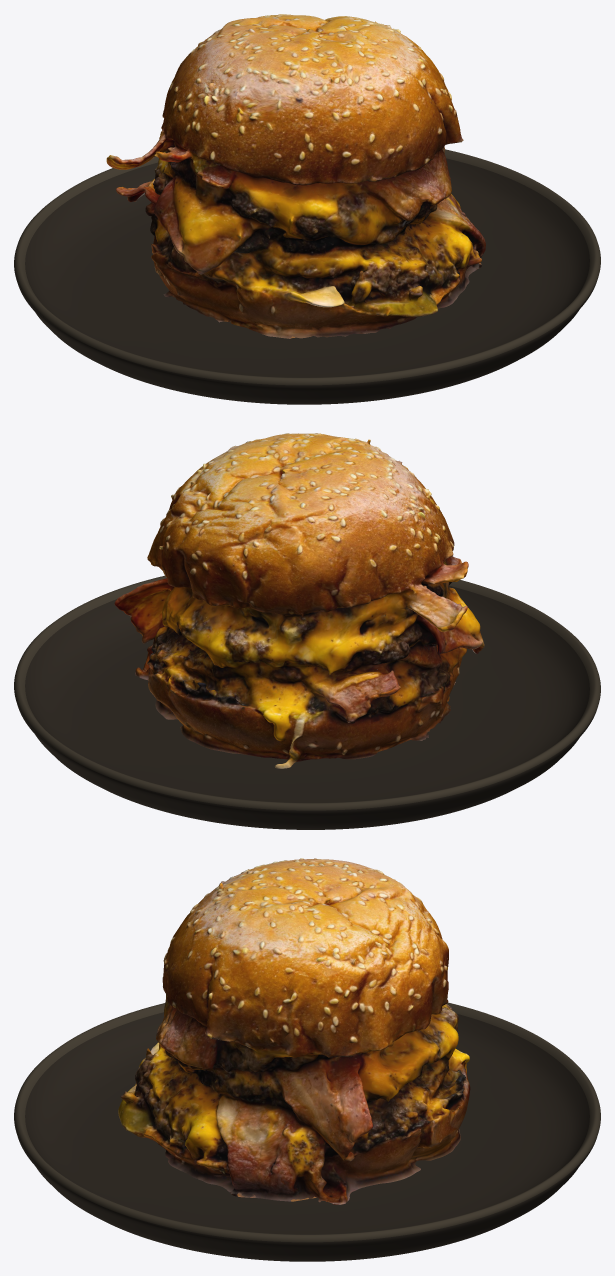
File: hero_burger_polished.glb
3 views of the same model, one above another, from view 1: azimuth 30°, elevation 25°; view 2: azimuth 150°, elevation 25°; view 3: azimuth 270°, elevation 25° (orthographic).
Parts seen in each view (by area): view 1: 3DModel, Rebuilt_plate; view 2: 3DModel, Rebuilt_plate; view 3: 3DModel, Rebuilt_plate.
Part boxes in pixels (x1=…): 3DModel: x1=106, y1=14, x2=485, y2=338; Rebuilt_plate: x1=14, y1=149, x2=600, y2=404; 3DModel: x1=114, y1=433, x2=484, y2=768; Rebuilt_plate: x1=14, y1=575, x2=600, y2=829; 3DModel: x1=118, y1=858, x2=470, y2=1204; Rebuilt_plate: x1=14, y1=1002, x2=600, y2=1261.
Bounding box in the file's own units: 0.1917 × 0.0964 × 0.189.
3 materials, 1 textured.
